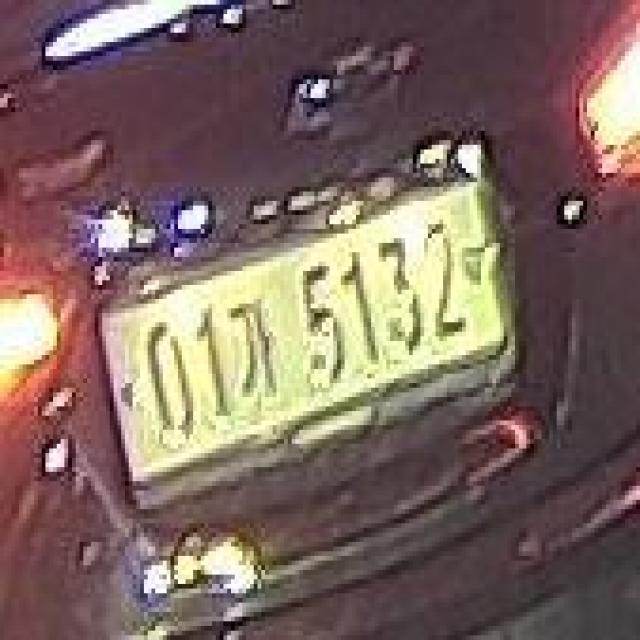illegal_plate: (98, 172, 519, 507)
